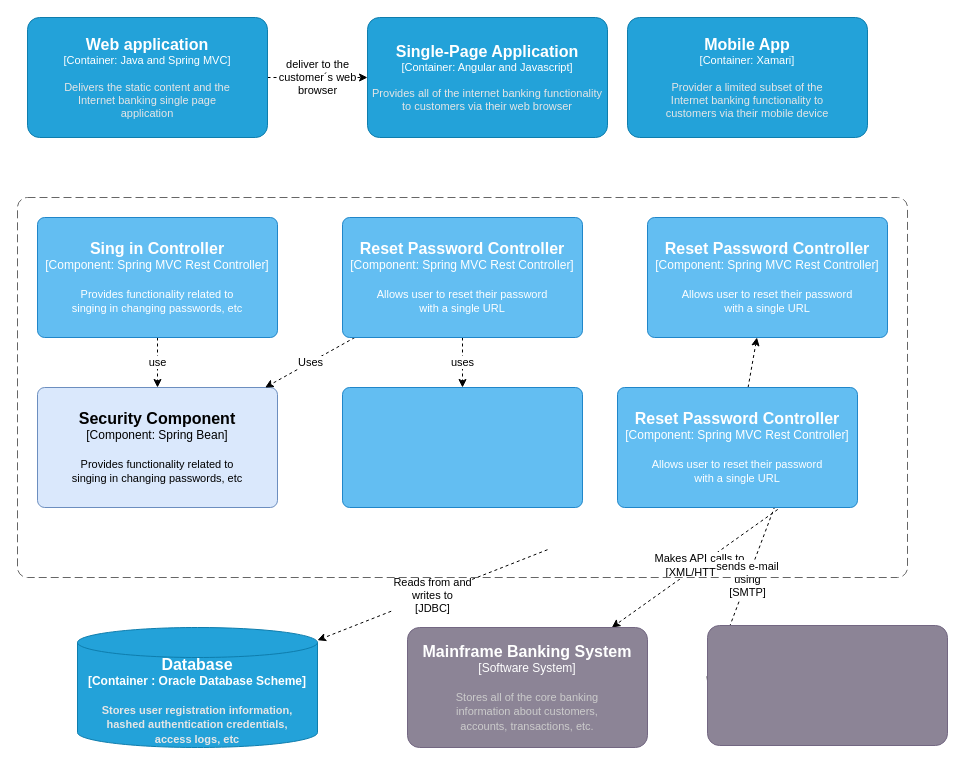
This 965x765 diagram has some shape labels left out. The box of each missing label's shape, as (x1, y1, x2, y2) in pixels:
Container name [Container]: (16, 196, 908, 578)
E-mail Component [Component: Spring Bean] Sends e-mails to users: (342, 386, 582, 508)
E-mail System [Software System] The internal Microsoft Exchange e-mail system: (706, 624, 948, 746)
